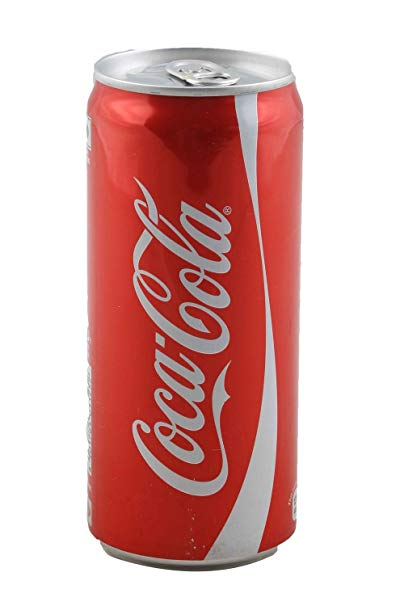can: (77, 41, 315, 576)
